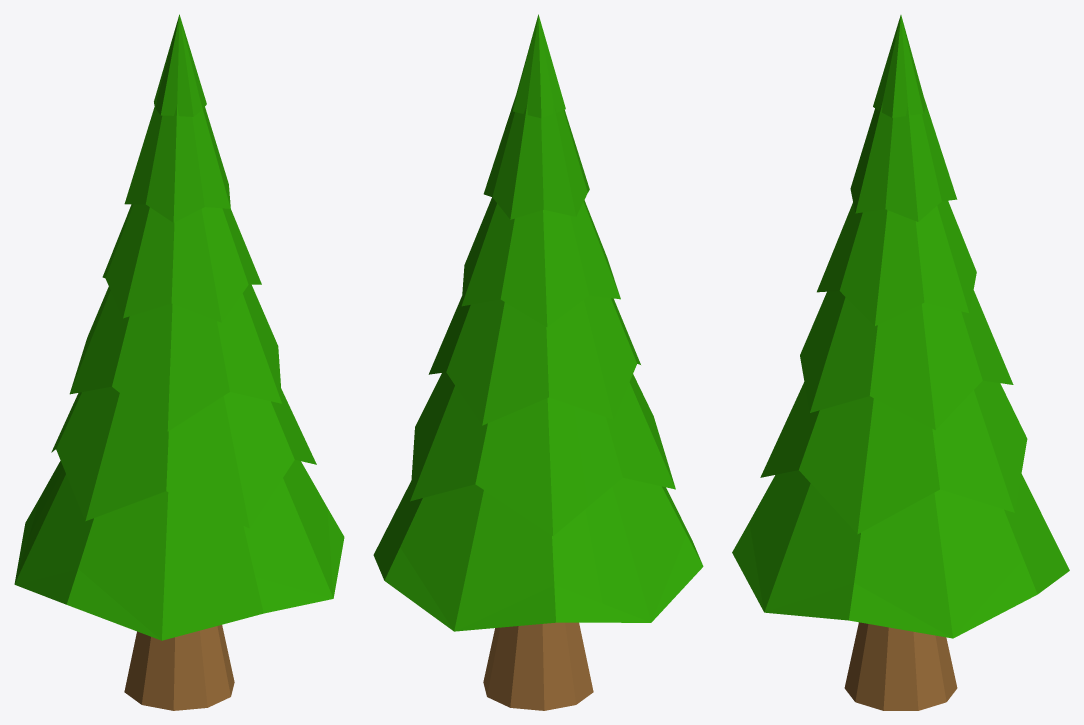
The model's file is tree2.glb.
The picture shows the model from 3 angles, left to right: view 1: azimuth 30°, elevation 25°; view 2: azimuth 150°, elevation 25°; view 3: azimuth 270°, elevation 25°; orthographic projection.
Visible parts, largest first — view 1: Cylinder; view 2: Cylinder; view 3: Cylinder.
Boxes of the visible parts, bbox=[...] form: Cylinder: bbox=[14, 14, 344, 710]; Cylinder: bbox=[373, 14, 703, 710]; Cylinder: bbox=[732, 15, 1069, 710].
Size of the model in its own units: 5.69 by 13.17 by 5.98.
